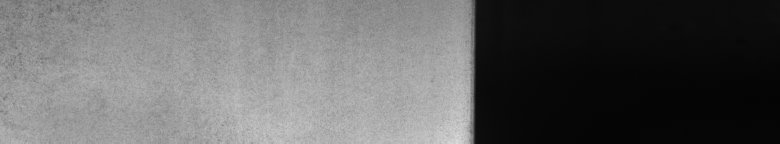ib: (4, 4, 80, 104)
